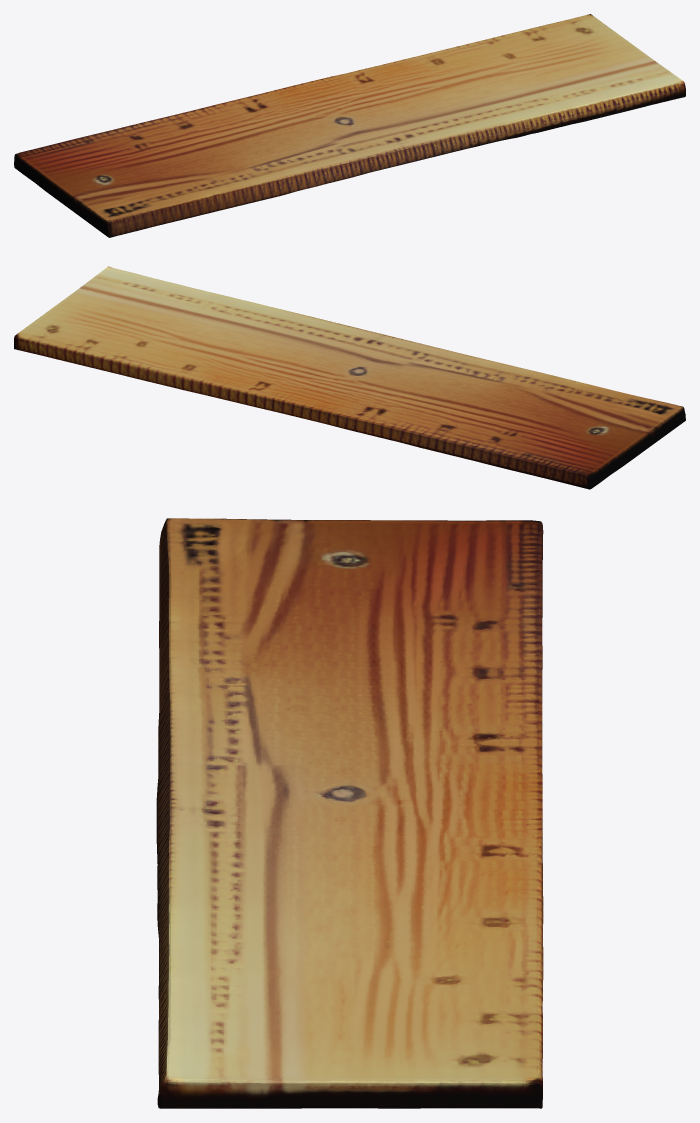
The model's file is wooden-ruler-vintage.jpeg.glb.
3 renders of one model, top to bottom at view 1: azimuth 30°, elevation 25°; view 2: azimuth 150°, elevation 25°; view 3: azimuth 270°, elevation 25°, orthographic. The views are drawn at different scales.
Parts seen in each view (by area): view 1: world; view 2: world; view 3: world.
Boxes of the visible parts, box(x1,y1,x2,y2) form: world: box(14, 14, 685, 237); world: box(14, 266, 685, 489); world: box(156, 518, 543, 1108).
Size of the model in its own units: 1 by 0.0259 by 0.2905.
1 material, 1 textured.
